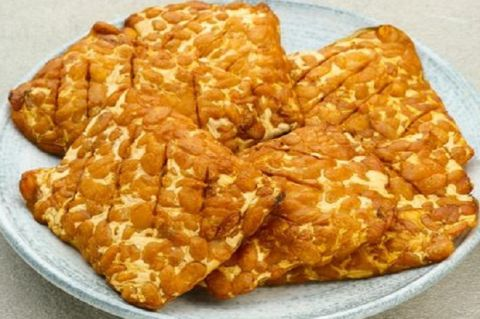Tempe: (33, 105, 264, 304), (12, 12, 281, 138), (293, 21, 445, 153), (259, 145, 410, 252)
